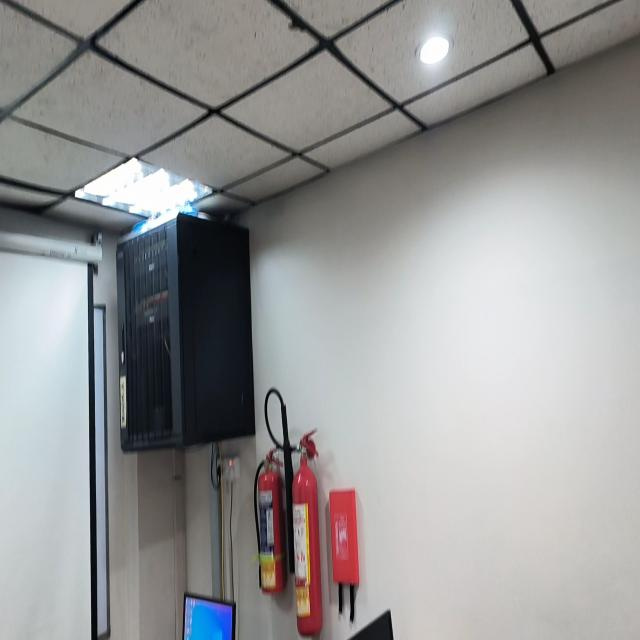Fire Extinguisher: (293, 431, 322, 636), (256, 449, 287, 594)
Light: (76, 158, 211, 218), (420, 36, 449, 65)
Monitor: (183, 593, 236, 639)
